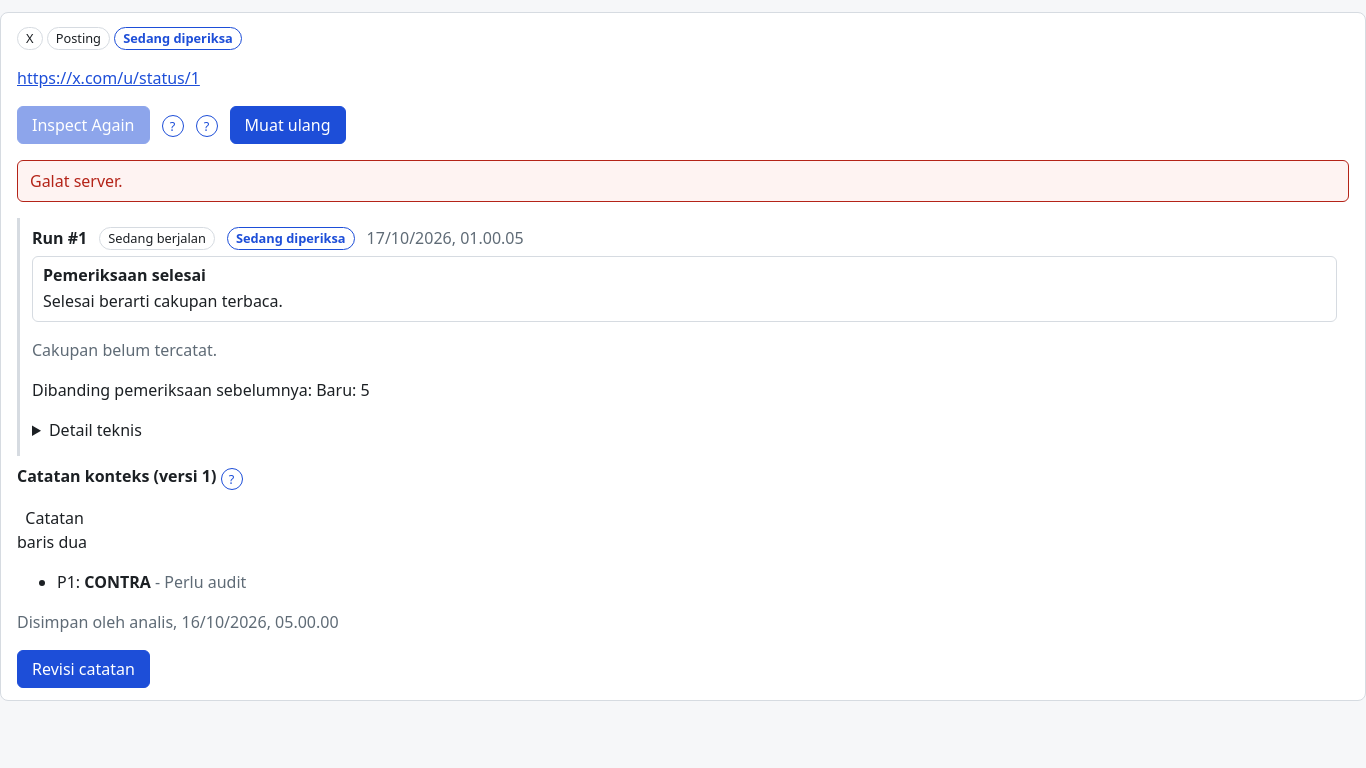
Test: TargetCard: menjalankan inspeksi dan polling › galat saat polling menghentikan polling dan menawarkan 'Muat ulang'
Expected: the message reads "Galat server.", [30,170,122,192]
Click the button "Muat ulang": (288, 125) [230,106,346,144]
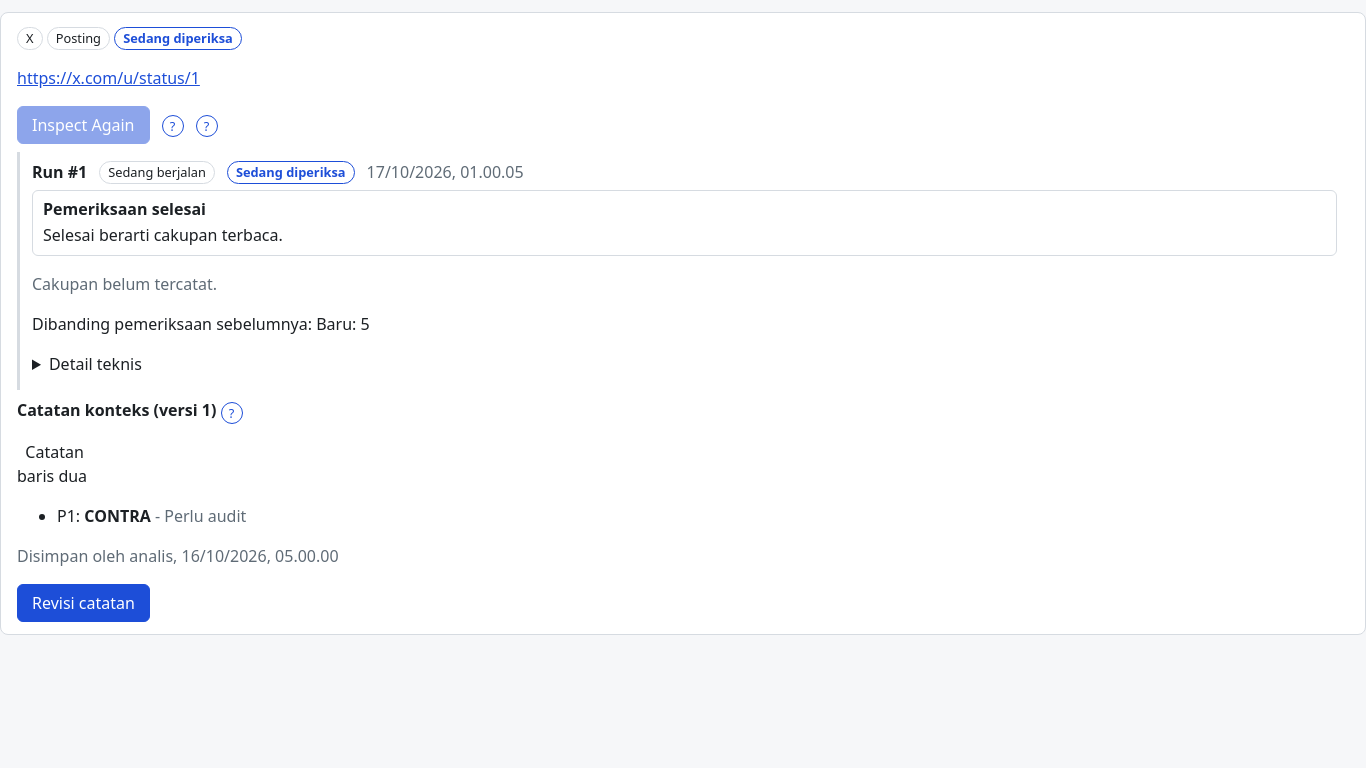
Now the message "Galat server." is gone
